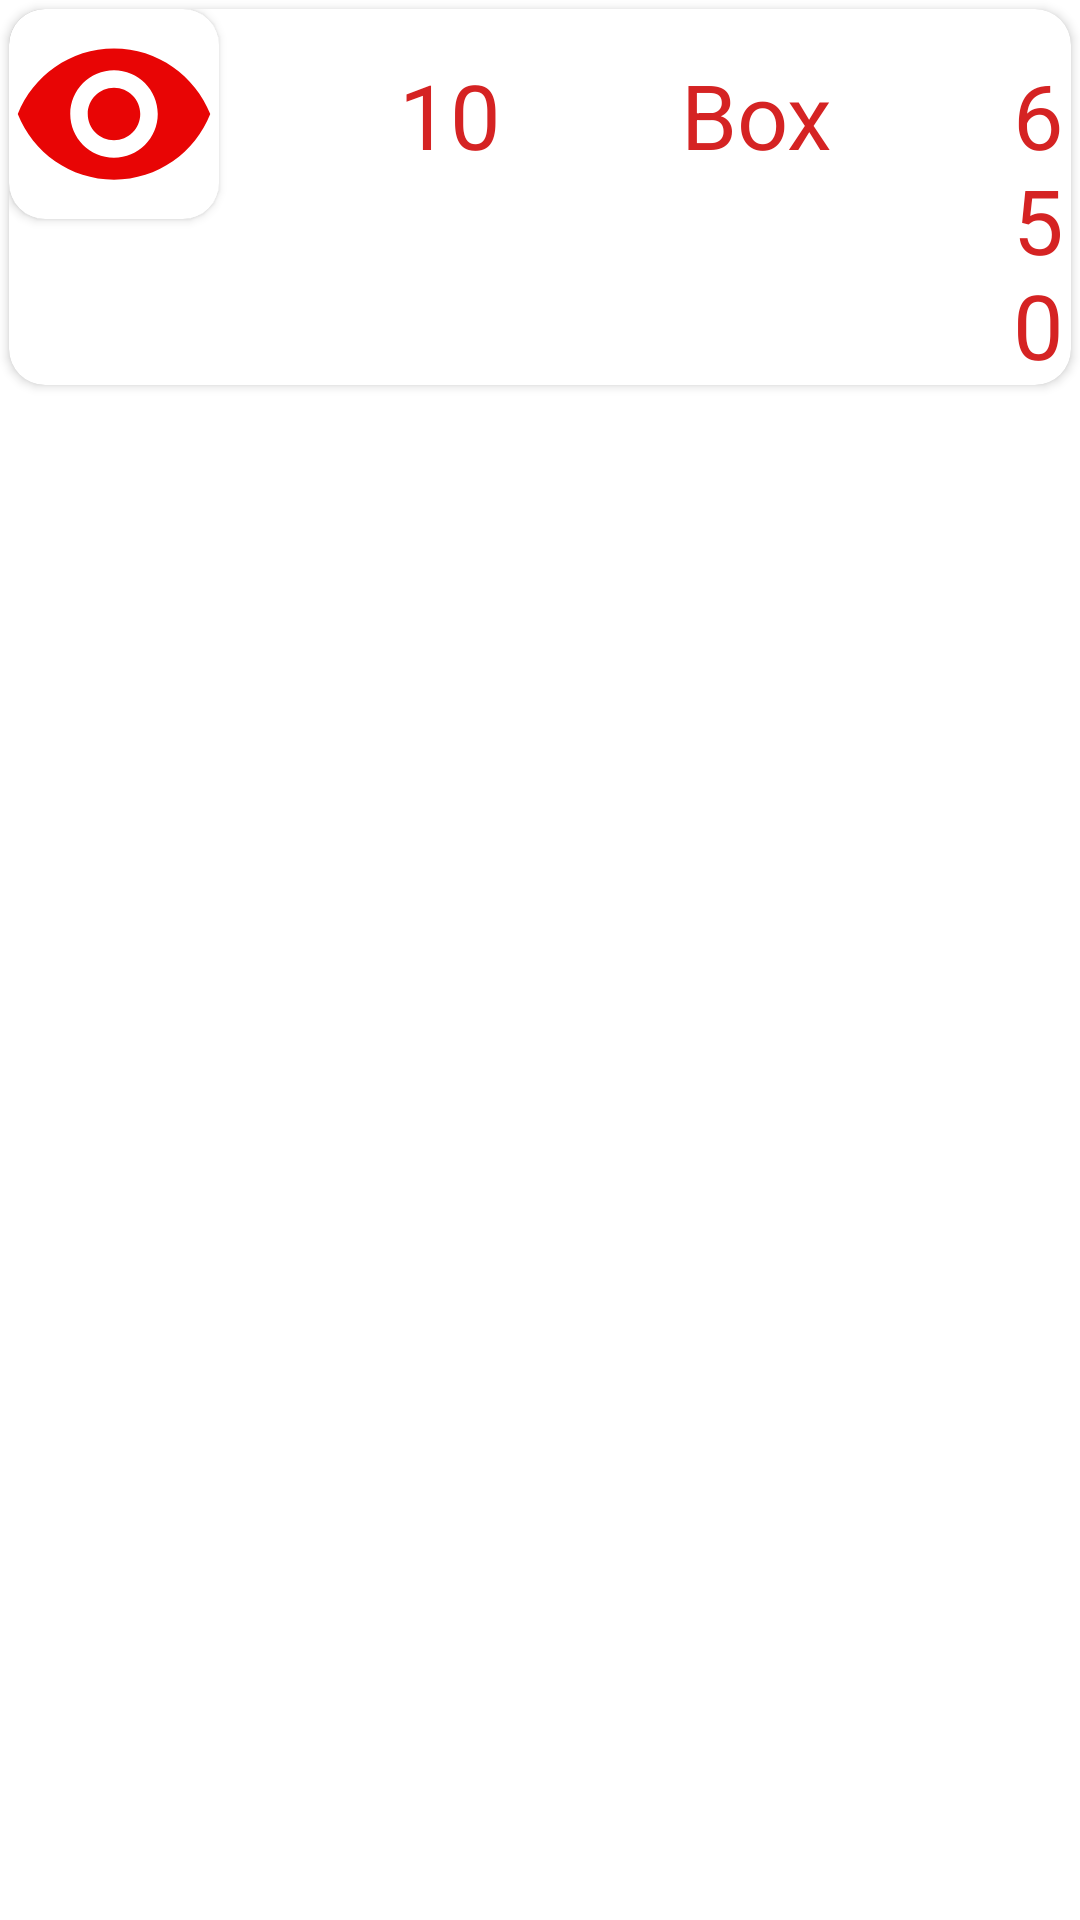

Icons on this 1080x1920 Android screen, each with the point to tap as (x=x, y=y):
custom show: (x=114, y=114)
